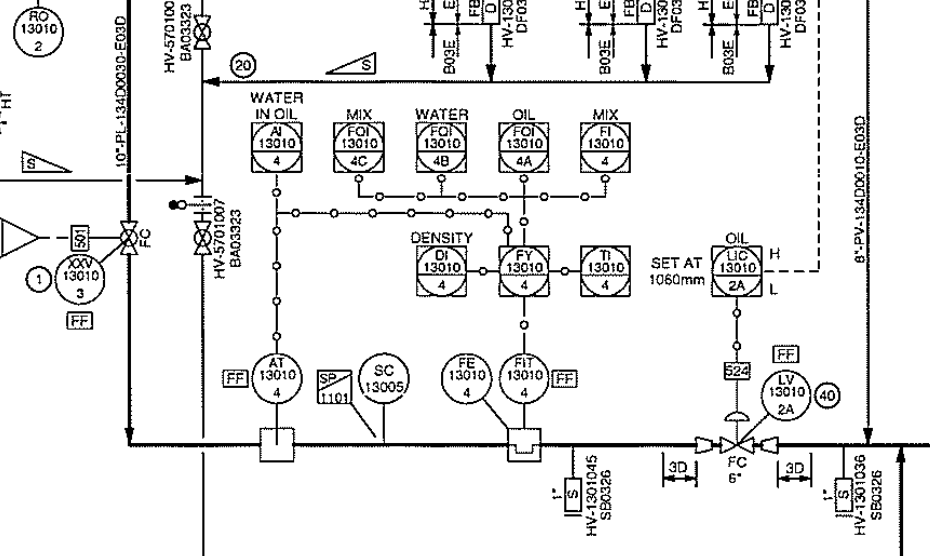Instrument: (354, 347, 413, 408), (248, 349, 306, 409), (9, 4, 68, 62), (495, 348, 551, 408), (53, 252, 110, 309), (758, 367, 814, 425), (439, 350, 493, 408)
Instrument-square: (411, 118, 473, 176), (576, 118, 636, 176), (577, 239, 634, 300), (493, 243, 554, 300), (707, 243, 766, 301), (328, 119, 388, 176), (248, 119, 306, 177), (495, 119, 554, 175), (413, 243, 470, 299)
